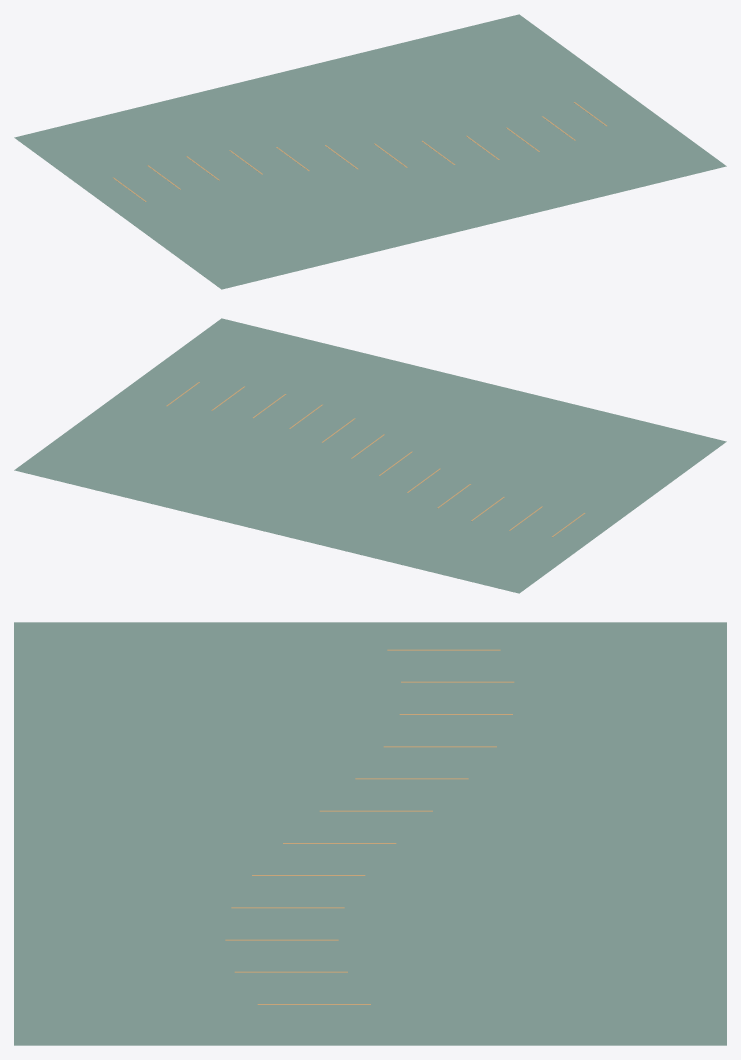
File: 265_L119_L16_LayerReference.glb
3 views of the same model, one above another, from view 1: azimuth 30°, elevation 25°; view 2: azimuth 150°, elevation 25°; view 3: azimuth 270°, elevation 25° (orthographic). The views are drawn at different scales.
Visible parts, largest first — view 1: 0000__PSMAT__dielectric; view 2: 0000__PSMAT__dielectric; view 3: 0000__PSMAT__dielectric.
Part boxes in pixels (x1,y1,x2,y2): 0000__PSMAT__dielectric: (14, 14, 726, 289); 0000__PSMAT__dielectric: (14, 318, 726, 593); 0000__PSMAT__dielectric: (14, 622, 726, 1045).
Bounding box in the file's own units: 0.486 × 0.000124 × 0.346.
